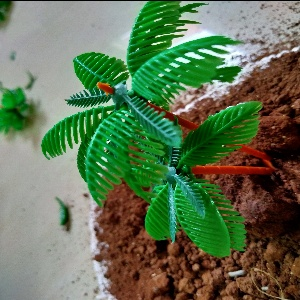plant: (47, 11, 174, 189), (137, 105, 244, 247)
